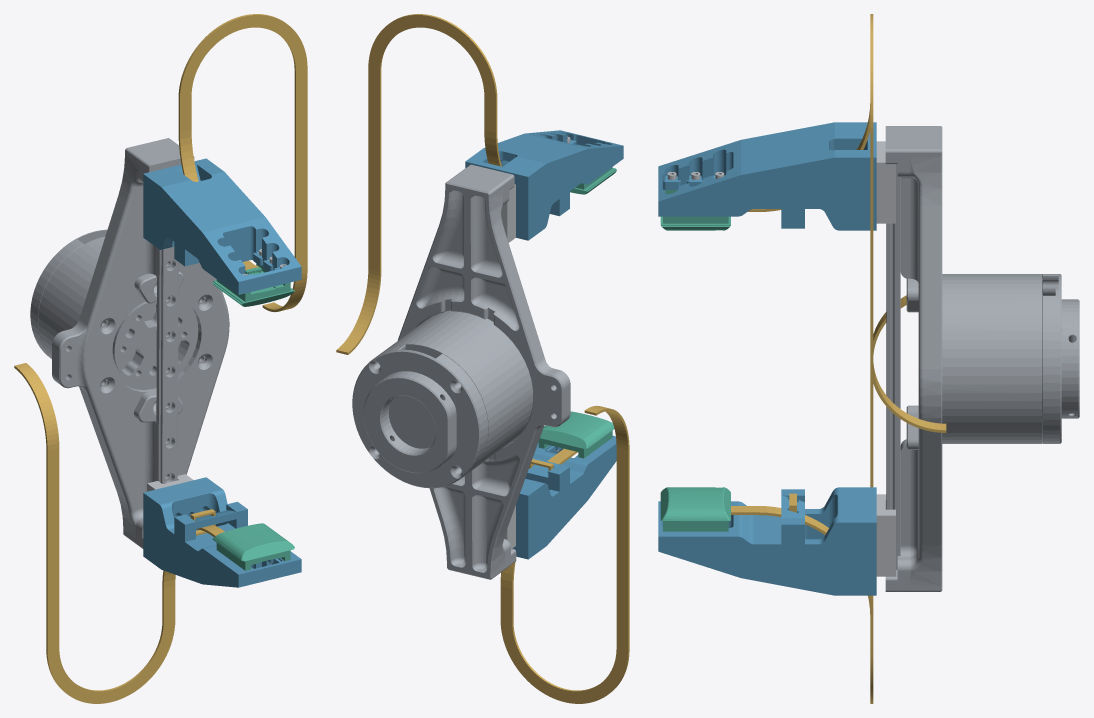
File: assembly_open100.glb
3 renders of one model, left to right at view 1: azimuth 30°, elevation 25°; view 2: azimuth 150°, elevation 25°; view 3: azimuth 270°, elevation 25°, orthographic. The views are drawn at different scales.
Parts seen in each view (by area): view 1: original_actuator_and_transmission, replacement_finger_2, replacement_finger_1, service_loop_envelope_1, service_loop_envelope_2, M2324_1, M2324_2, moving_harness_envelope_2; view 2: original_actuator_and_transmission, replacement_finger_2, service_loop_envelope_2, service_loop_envelope_1, replacement_finger_1, M2324_1, retained_carrier_2, moving_harness_envelope_1, moving_harness_envelope_2; view 3: original_actuator_and_transmission, replacement_finger_2, replacement_finger_1, M2324_1, service_loop_envelope_2, retained_carrier_1, retained_carrier_2, service_loop_envelope_1, M2324_2, moving_harness_envelope_1.
Boxes of the visible parts, x1,y1,x2,y2 form: original_actuator_and_transmission: [30, 138, 229, 548]; replacement_finger_2: [143, 158, 301, 294]; replacement_finger_1: [143, 477, 301, 587]; service_loop_envelope_1: [14, 363, 175, 703]; service_loop_envelope_2: [178, 14, 307, 312]; M2324_1: [212, 523, 294, 570]; M2324_2: [212, 263, 294, 306]; moving_harness_envelope_2: [178, 130, 255, 268]; original_actuator_and_transmission: [352, 164, 570, 579]; replacement_finger_2: [465, 130, 623, 240]; service_loop_envelope_2: [336, 14, 497, 354]; service_loop_envelope_1: [500, 405, 629, 703]; replacement_finger_1: [512, 435, 616, 559]; M2324_1: [538, 411, 614, 458]; retained_carrier_2: [501, 184, 515, 242]; moving_harness_envelope_1: [500, 448, 577, 588]; moving_harness_envelope_2: [484, 130, 501, 166]; original_actuator_and_transmission: [885, 126, 1079, 591]; replacement_finger_2: [658, 122, 876, 230]; replacement_finger_1: [658, 487, 876, 595]; M2324_1: [660, 487, 730, 531]; service_loop_envelope_2: [870, 14, 946, 432]; retained_carrier_1: [876, 494, 895, 576]; retained_carrier_2: [876, 141, 895, 223]; service_loop_envelope_1: [870, 295, 906, 703]; M2324_2: [660, 190, 730, 230]; moving_harness_envelope_1: [731, 506, 873, 616].
Size of the model in its own units: 0.1152 by 0.2766 by 0.1412.
